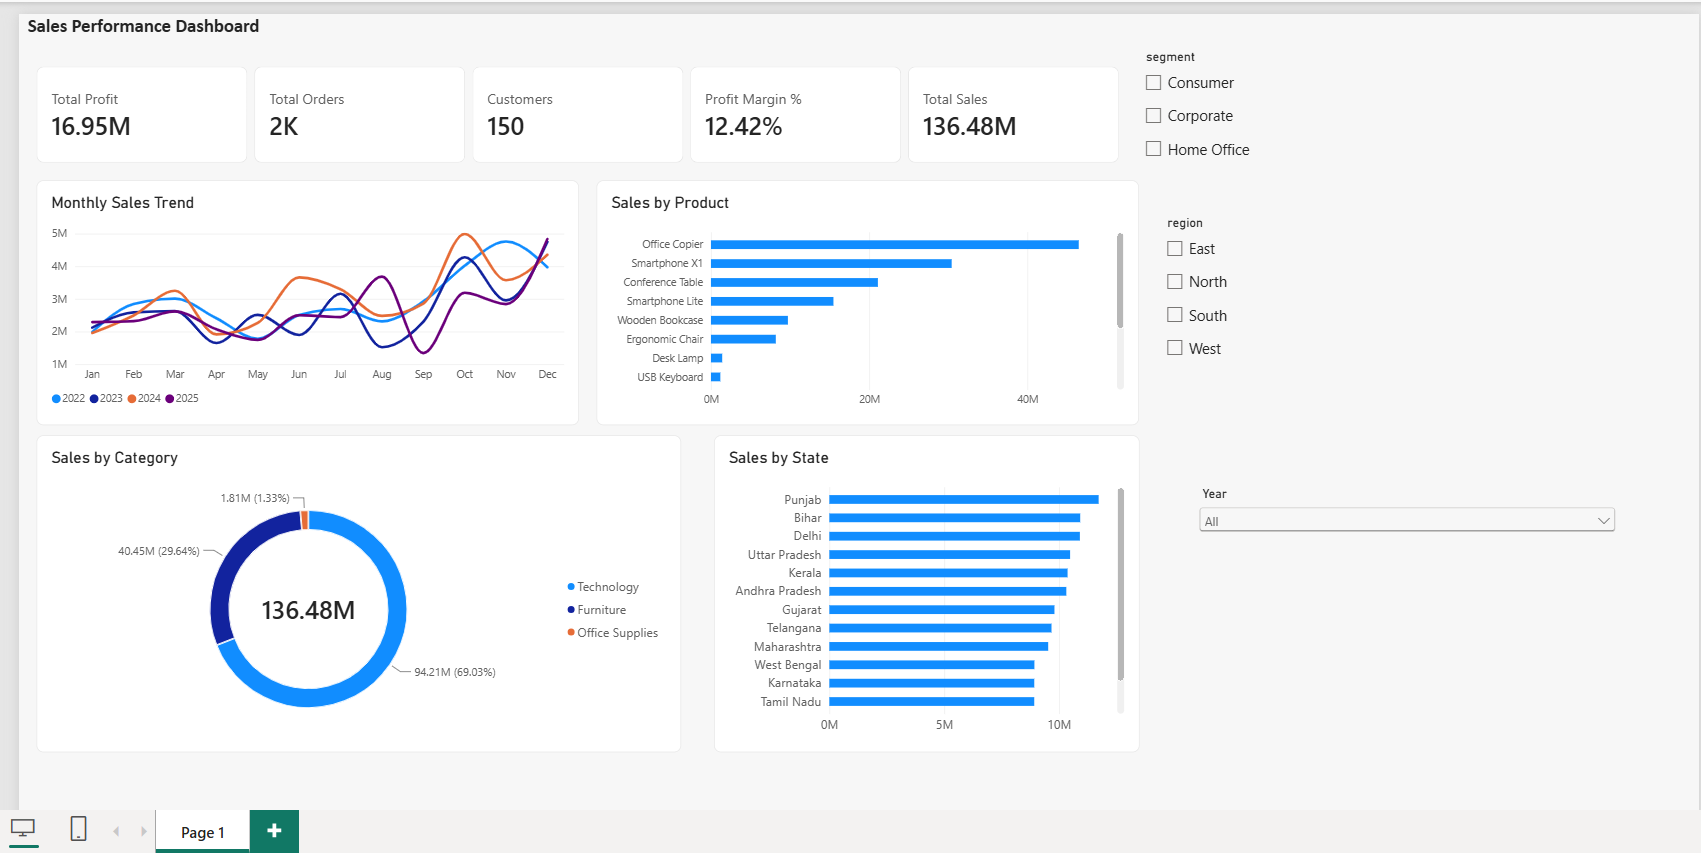

Layout of this report page (visuals, bound fields, positions):
{"tool":"powerbi","page":{"name":"Page 1","canvas":[1920,1080],"ordinal":0},"visuals":[{"type":"textbox","box":[10,0,736.7,708.3],"z":0},{"type":"cardVisual","fields":{"Data":["superstore_clean.Total Profit","superstore_clean.Total Orders","superstore_clean.Customers","superstore_clean.Profit Margin %","superstore_clean.Total Sales"]},"box":[20,60,1240,110],"z":1000},{"type":"lineChart","title":"Monthly Sales Trend","fields":{"Category":["DimDate.Month"],"Series":["DimDate.Year"],"Y":["superstore_clean.Total Sales"]},"box":[20,190,620,280],"z":2000},{"type":"clusteredBarChart","title":"Sales by Product","fields":{"Category":["superstore_clean.product_name"],"Y":["superstore_clean.Total Sales"]},"box":[660,190,620,280],"z":3000},{"type":"donutChart","title":"Sales by Category","fields":{"Category":["superstore_clean.category"],"Y":["superstore_clean.Total Sales"]},"box":[20,481.7,737,362],"z":4000},{"type":"clusteredBarChart","title":" Sales by State","fields":{"Category":["superstore_clean.state"],"Y":["superstore_clean.Total Sales"]},"box":[794,482,486,362],"z":5000},{"type":"slicer","fields":{"Values":["superstore_clean.segment"]},"box":[1280,40,392,166],"z":6000},{"type":"slicer","fields":{"Values":["superstore_clean.region"]},"box":[1305,230,425,200],"z":7000},{"type":"slicer","fields":{"Values":["DimDate.Year"]},"box":[1345,540,485,167.5],"z":8000}]}

Visuals, with their boxes on the page's 1920x1080 design canvas (x1, y1, x2, y2). These are canvas units, not pixel positions in the 1701x853 screenshot, which may show the page scaled, cropped or inside an application window:
textbox: bbox=(10, 0, 747, 708)
cardVisual - superstore_clean.Total Profit x superstore_clean.Total Orders: bbox=(20, 60, 1260, 170)
"Monthly Sales Trend" lineChart: bbox=(20, 190, 640, 470)
"Sales by Product" clusteredBarChart: bbox=(660, 190, 1280, 470)
"Sales by Category" donutChart: bbox=(20, 482, 757, 844)
" Sales by State" clusteredBarChart: bbox=(794, 482, 1280, 844)
slicer - superstore_clean.segment: bbox=(1280, 40, 1672, 206)
slicer - superstore_clean.region: bbox=(1305, 230, 1730, 430)
slicer - DimDate.Year: bbox=(1345, 540, 1830, 708)
